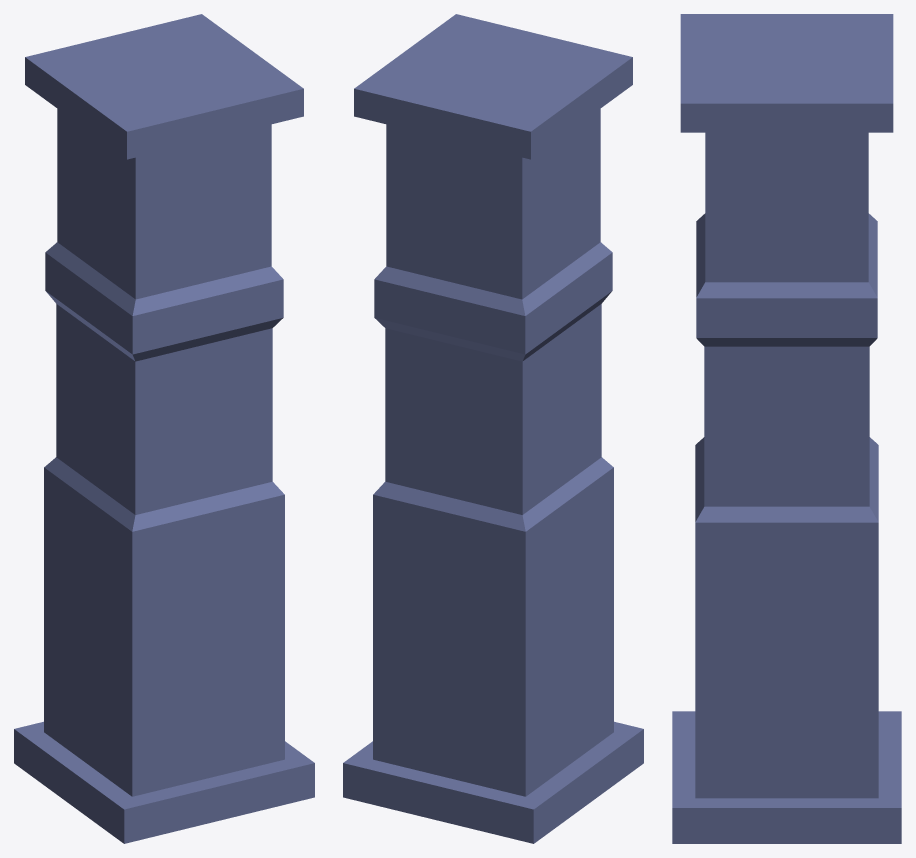
Rendered from pillar.fbx.
3 views of the same model, side by side, from view 1: azimuth 30°, elevation 25°; view 2: azimuth 150°, elevation 25°; view 3: azimuth 270°, elevation 25° (orthographic). The views are drawn at different scales.
Visible parts, largest first — view 1: column_1_1; view 2: column_1_1; view 3: column_1_1.
Part boxes in pixels (<box>): column_1_1: <box>14,14,314,843</box>; column_1_1: <box>343,14,643,843</box>; column_1_1: <box>672,14,901,843</box>.
Bounding box in the file's own units: 260 × 922 × 260.
